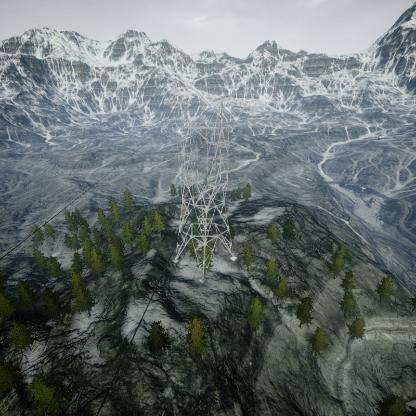tower: (173, 99, 238, 281)
